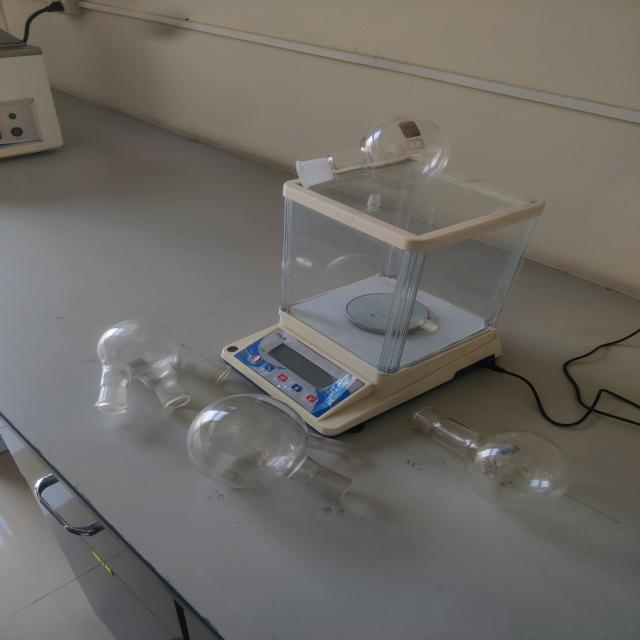Round_Bottom_Flask_Borosilicate_Glass_1_Neck: (369, 380, 613, 523), (267, 82, 499, 216)
Round_Bottom_Flask_Borosilicate_Glass_2_Neck: (176, 362, 384, 528)
Round_Bottom_Flask_Borosilicate_Glass_3_Neck: (46, 276, 244, 427)
